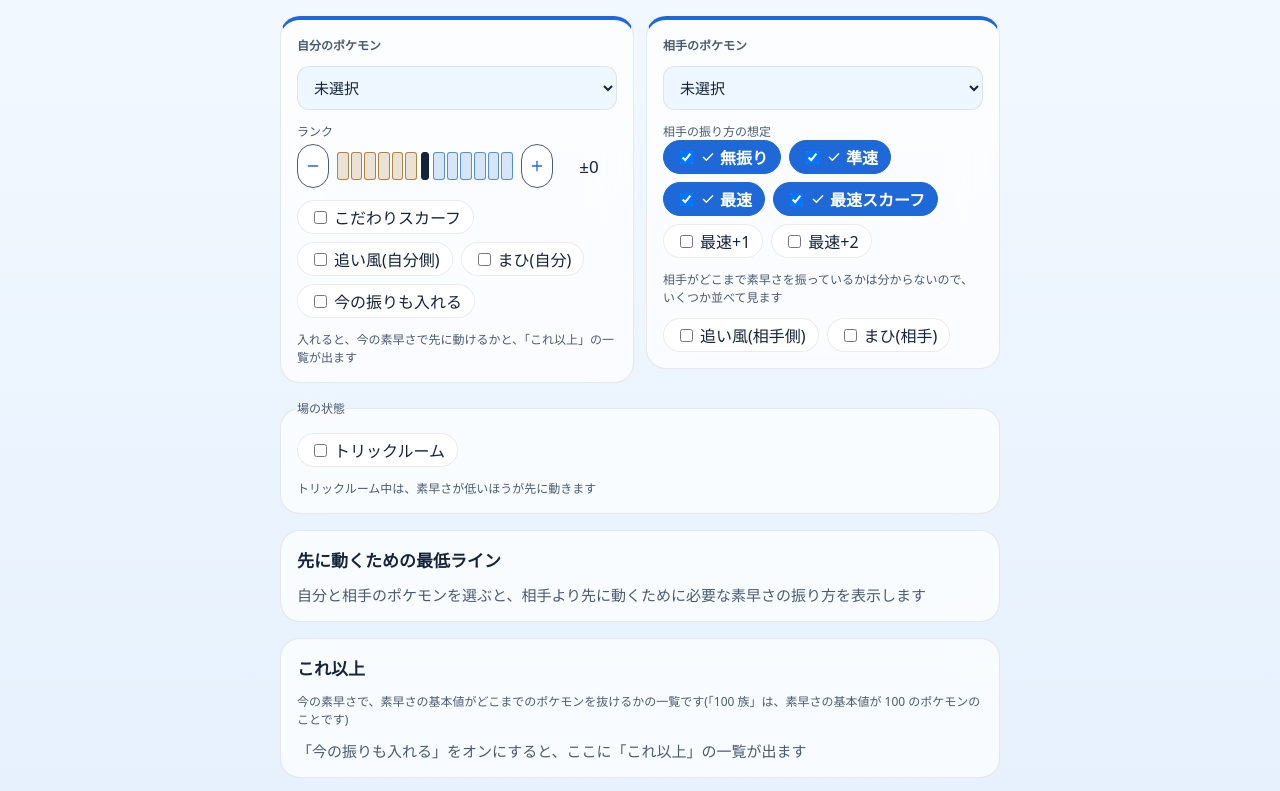
Test case: W7 トリックルーム › トリックルーム中に先に動けないときは「どう振っても先に動けません」
Select "テストカソウドリ" in the dropdown named "自分のポケモンを選ぶ" at (457, 88), box [297,66,617,110]
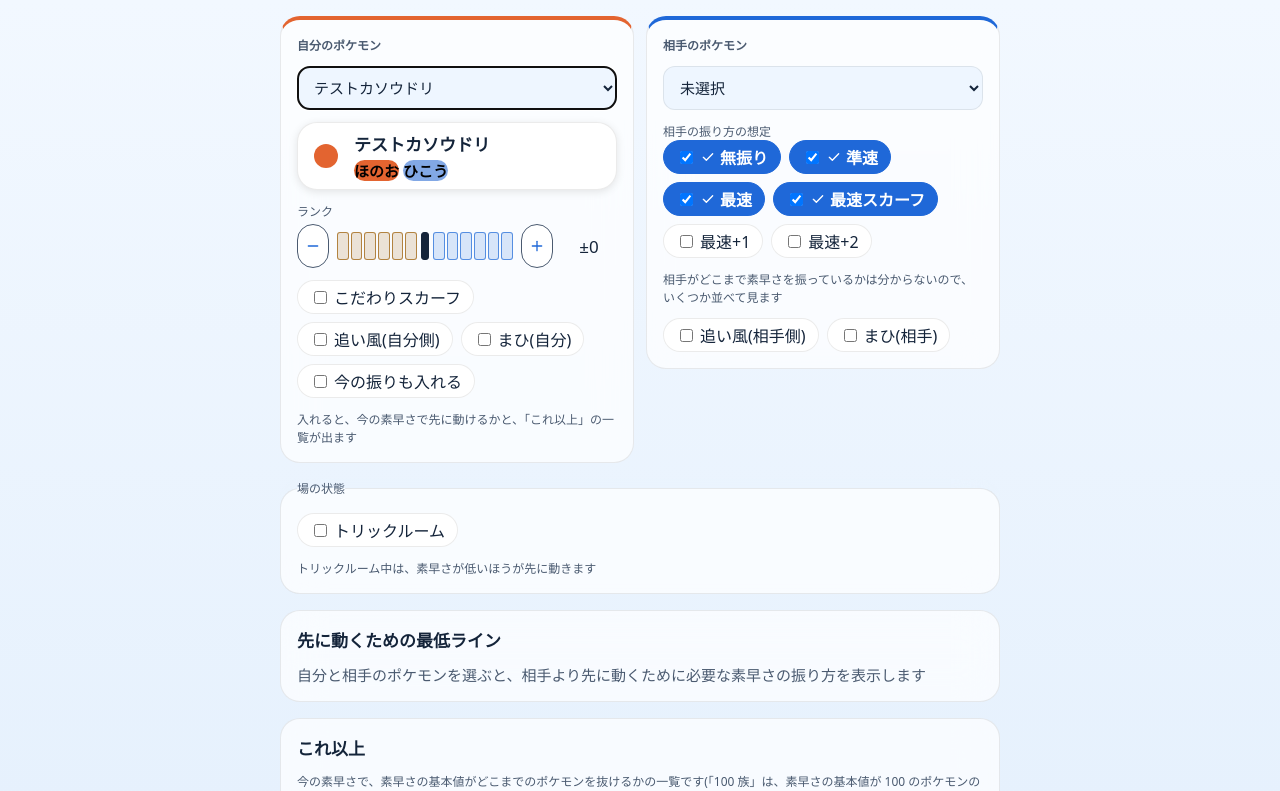
Select "テストカソウギョ" in the dropdown named "相手のポケモンを選ぶ" at (823, 88), box [663,66,983,110]
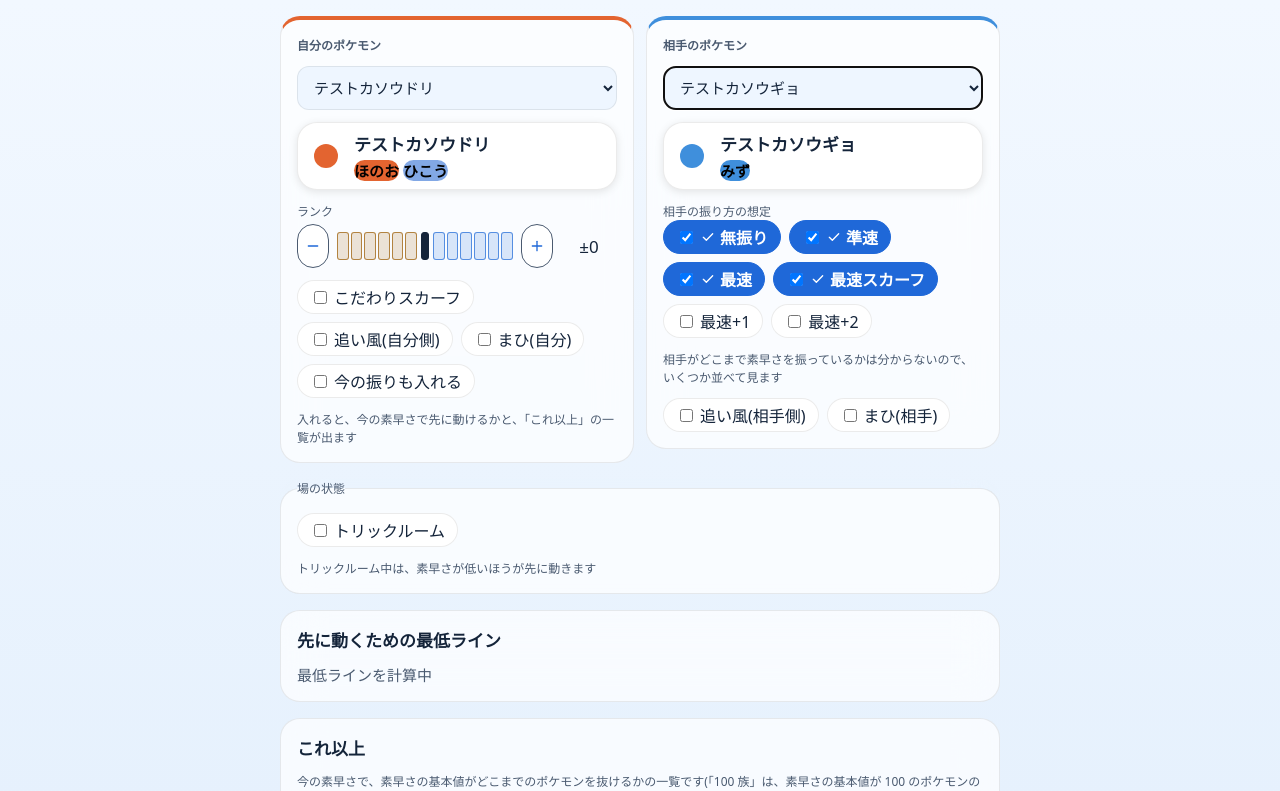
Click the checkbox labelled "トリックルーム" at (320, 530), box [314,524,327,536]
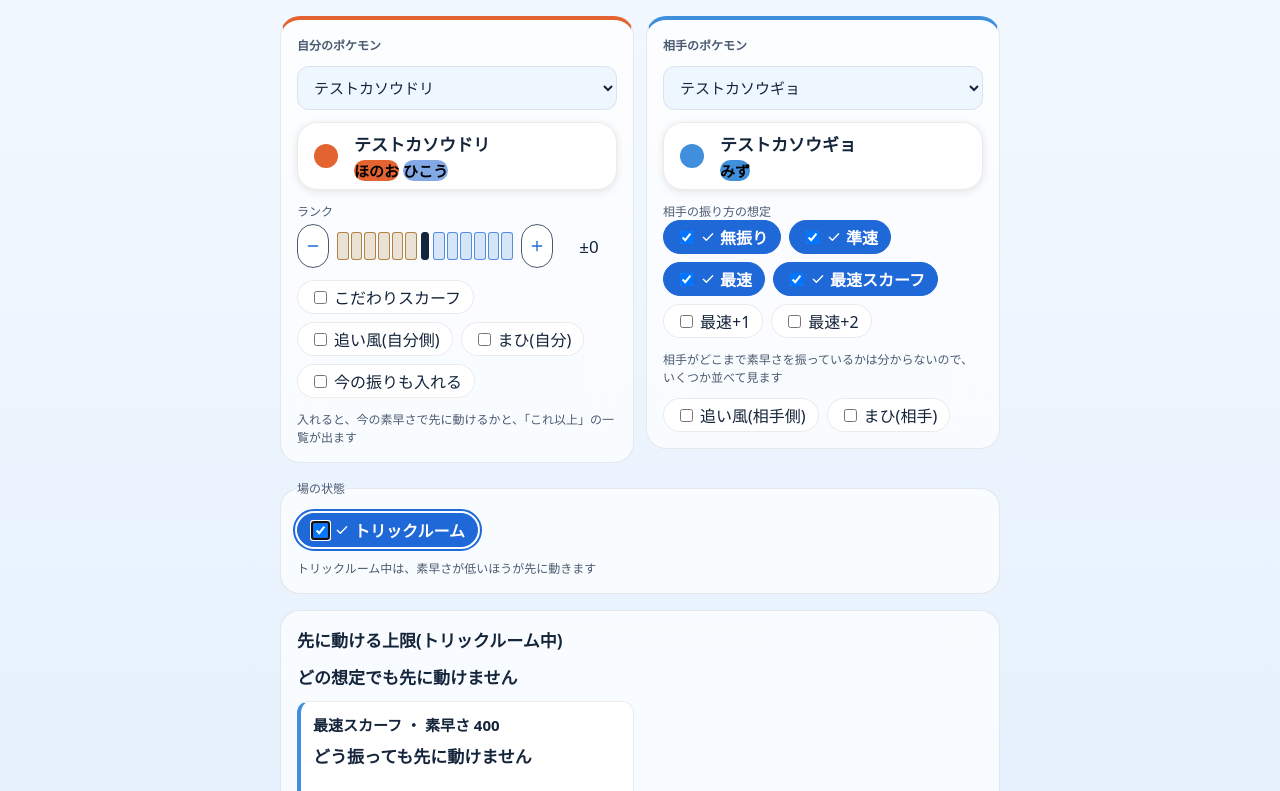
Expected: the text with test id "speed-headline" reads "どう振っても先に動けません", [313,745,532,768]
